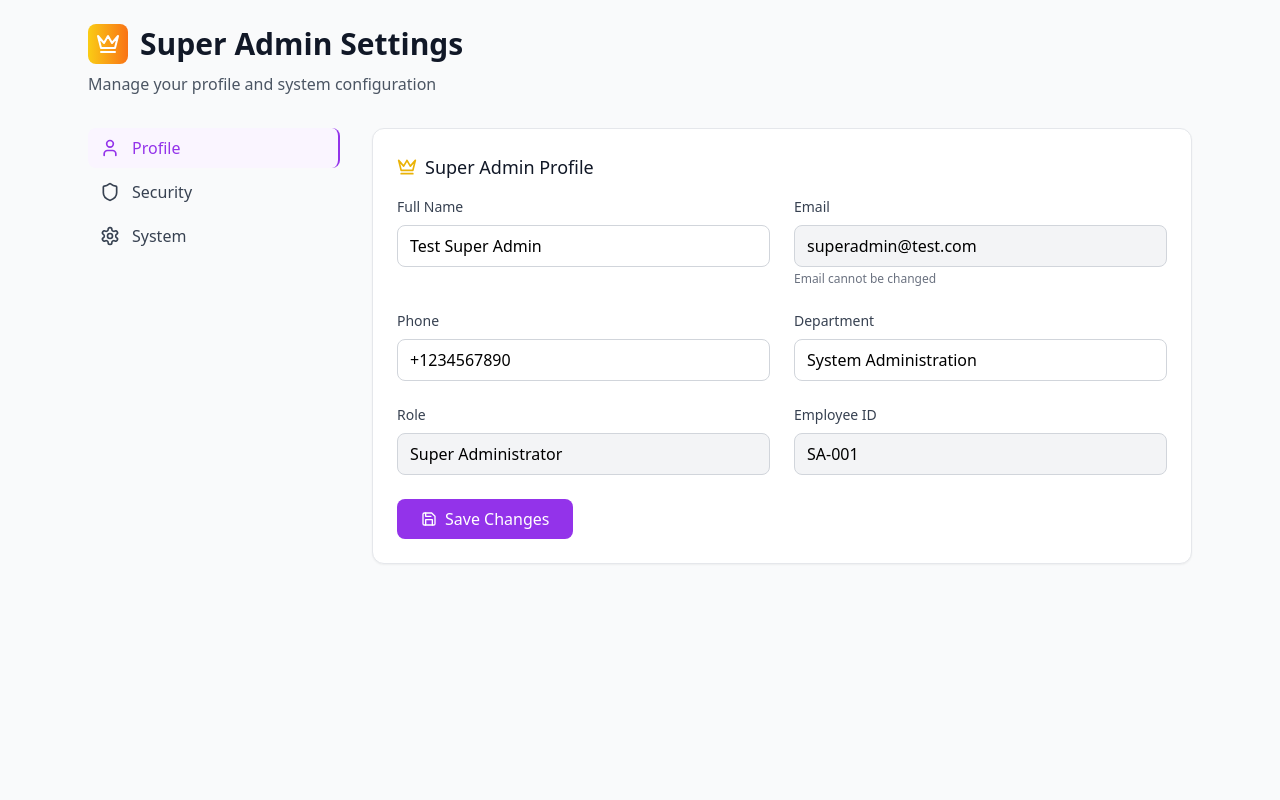
it: SuperAdminSettings › switches to system tab and shows system settings
Click the button "System" at (214, 236), box [88,216,340,256]
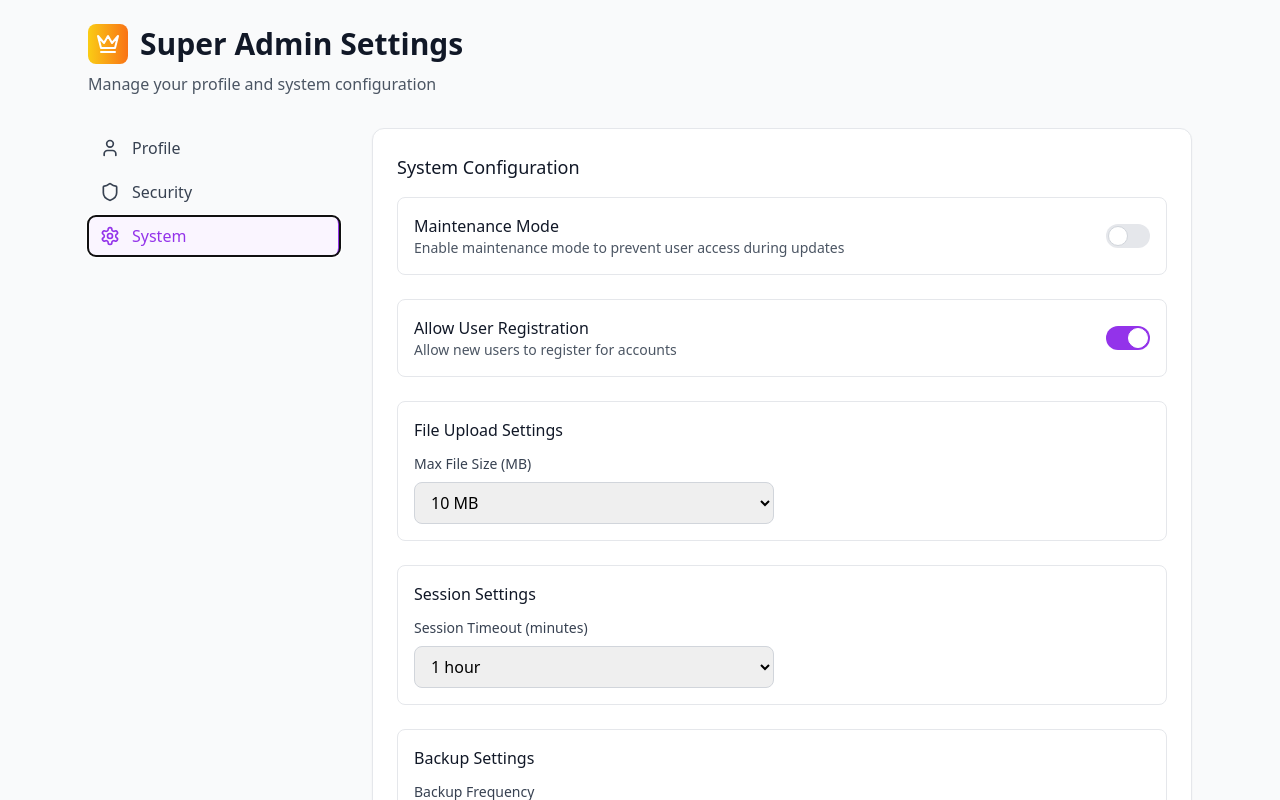
Check: the heading "System Configuration" is shown, box [397,155,580,179]
Check: the heading "Maintenance Mode" is shown, box [414,215,559,237]
Check: the heading "Allow User Registration" is shown, box [414,317,589,339]
